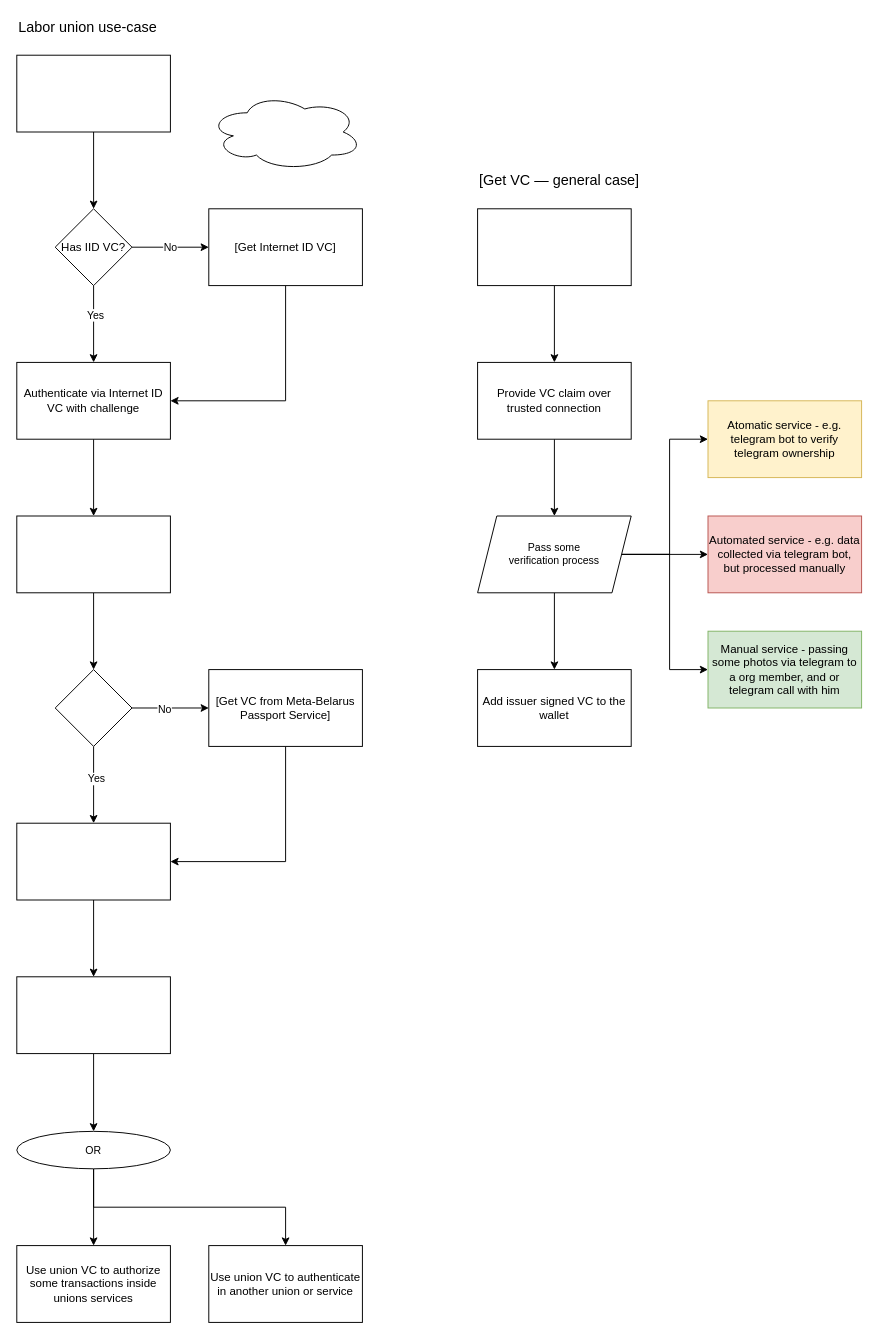
Some shapes in this 878 by 1339 pixel diagram are drawn without their labels. Each missing label, with the centre of its shape:
[Get authentication / assertion VC from some union]: point 93,1015
Establish trusted connection (pass challenge with some self-signed ID): point 554,247
Get to registration: point 93,93
Has VCs?: point 93,707
Internet ID — email, telegram, phone, facebook: point 285,131
Try to join some union: point 93,554
Verify VC with challenge: point 93,861
